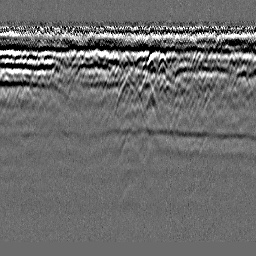cavity: (113, 68, 145, 115)
